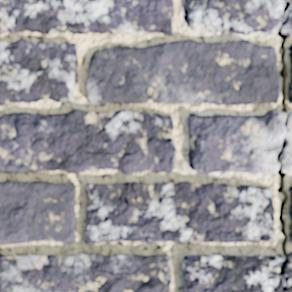brick: (87, 40, 279, 104), (85, 182, 274, 243), (0, 109, 176, 173), (0, 253, 171, 291), (0, 0, 172, 34), (0, 40, 77, 104), (0, 181, 75, 244), (289, 84, 291, 102), (289, 204, 291, 218)
broken_brick: (187, 109, 284, 174), (182, 254, 283, 291), (182, 0, 284, 35), (283, 112, 291, 171), (282, 0, 291, 35), (286, 251, 291, 291)
crack: (275, 0, 290, 291), (102, 181, 147, 227), (183, 256, 188, 261)
